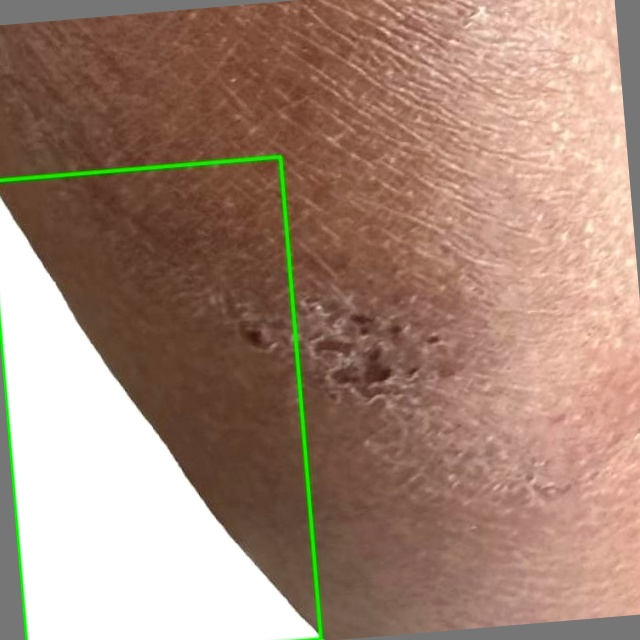Atopic Dermatitis: (0, 156, 321, 639)
